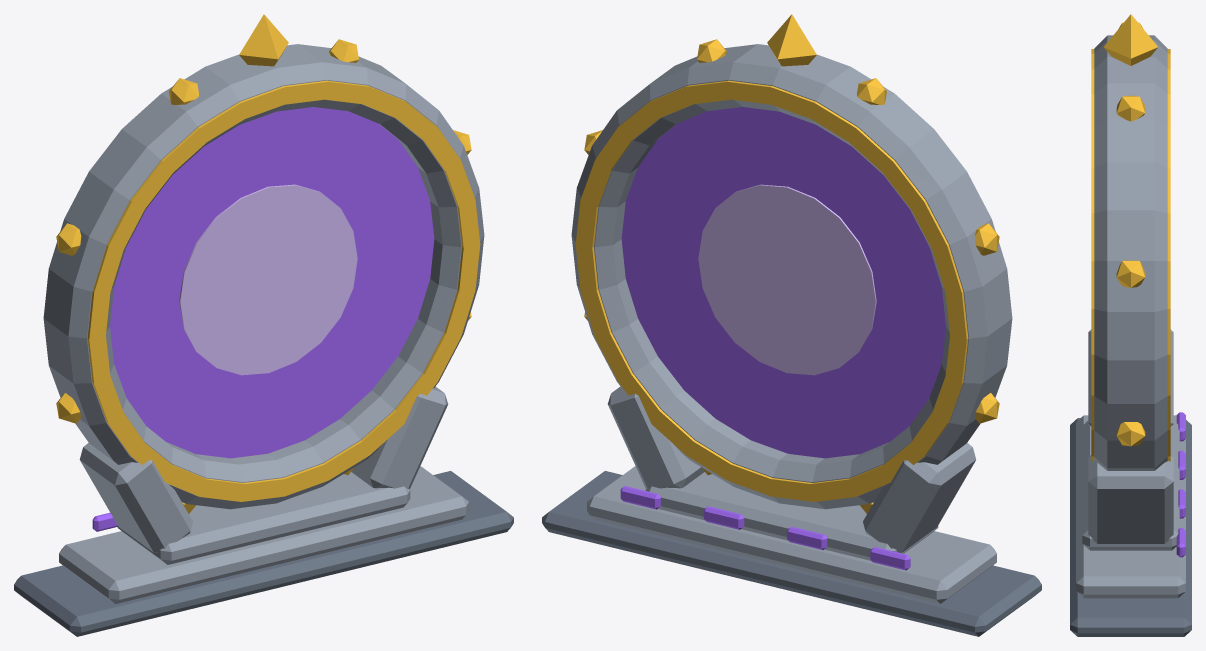
File: Prop_realm_of_legends_SpiritGate.glb
3 views of the same model, side by side, from view 1: azimuth 30°, elevation 25°; view 2: azimuth 150°, elevation 25°; view 3: azimuth 270°, elevation 25° (orthographic). The views are drawn at different scales.
Parts seen in each view (by area): view 1: StoneLight_9AA4B2, ZoneViolet_A66BFF, Gold_FFC83D, GlowLilac_D9C2FF, StoneDark_6B7686; view 2: StoneLight_9AA4B2, ZoneViolet_A66BFF, Gold_FFC83D, GlowLilac_D9C2FF, StoneDark_6B7686; view 3: StoneLight_9AA4B2, StoneDark_6B7686, Gold_FFC83D, ZoneViolet_A66BFF.
Boxes of the visible parts, <box> form: StoneLight_9AA4B2: <box>43,44,484,603</box>; ZoneViolet_A66BFF: <box>92,107,434,531</box>; Gold_FFC83D: <box>56,14,480,513</box>; GlowLilac_D9C2FF: <box>179,184,357,375</box>; StoneDark_6B7686: <box>14,471,513,636</box>; StoneLight_9AA4B2: <box>571,44,1012,603</box>; ZoneViolet_A66BFF: <box>620,107,945,570</box>; Gold_FFC83D: <box>575,14,999,513</box>; GlowLilac_D9C2FF: <box>698,184,876,375</box>; StoneDark_6B7686: <box>542,471,1041,636</box>; StoneLight_9AA4B2: <box>1076,35,1185,598</box>; StoneDark_6B7686: <box>1070,418,1191,636</box>; Gold_FFC83D: <box>1091,14,1170,461</box>; ZoneViolet_A66BFF: <box>1176,412,1185,557</box>.
Size of the model in its own units: 16 by 18.95 by 4.
